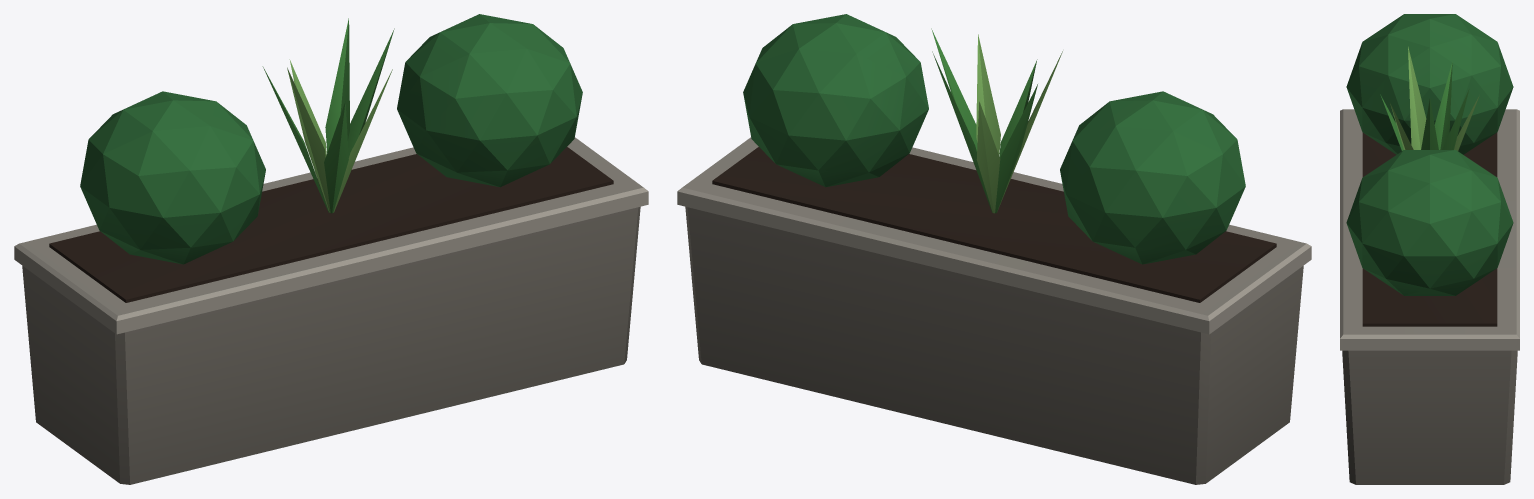
Rendered from terrace_planter_01.glb.
3 views of the same model, side by side, from view 1: azimuth 30°, elevation 25°; view 2: azimuth 150°, elevation 25°; view 3: azimuth 270°, elevation 25° (orthographic). The views are drawn at different scales.
Visible parts, largest first — view 1: terrace_planter_01_mesh; view 2: terrace_planter_01_mesh; view 3: terrace_planter_01_mesh.
Boxes of the visible parts, x1,y1,x2,y2 form: terrace_planter_01_mesh: (14, 14, 648, 484); terrace_planter_01_mesh: (677, 14, 1311, 484); terrace_planter_01_mesh: (1340, 14, 1519, 484).
Size of the model in its own units: 1.68 by 1.05 by 0.56.
1 material, 1 textured.
